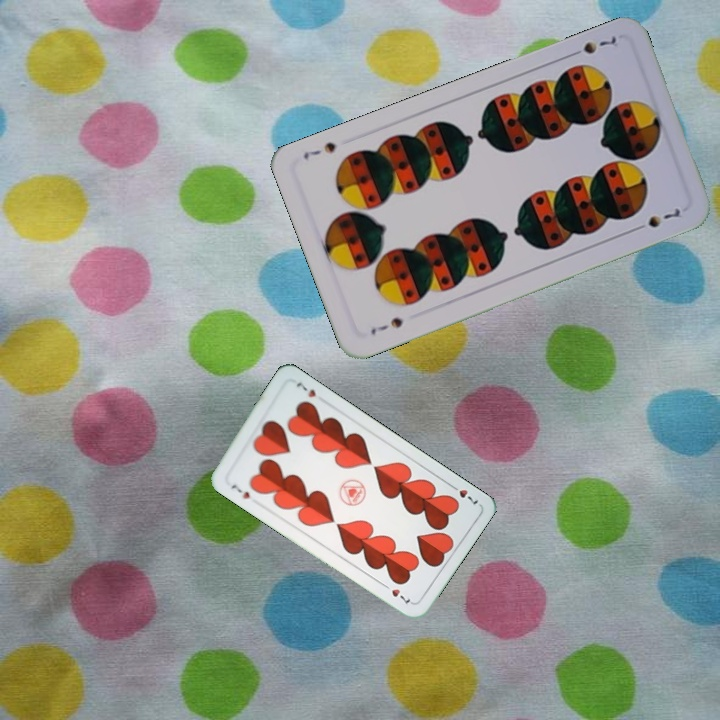H7: (445, 480, 481, 507), (227, 480, 252, 501)
S7: (565, 32, 619, 60), (366, 313, 406, 338)
